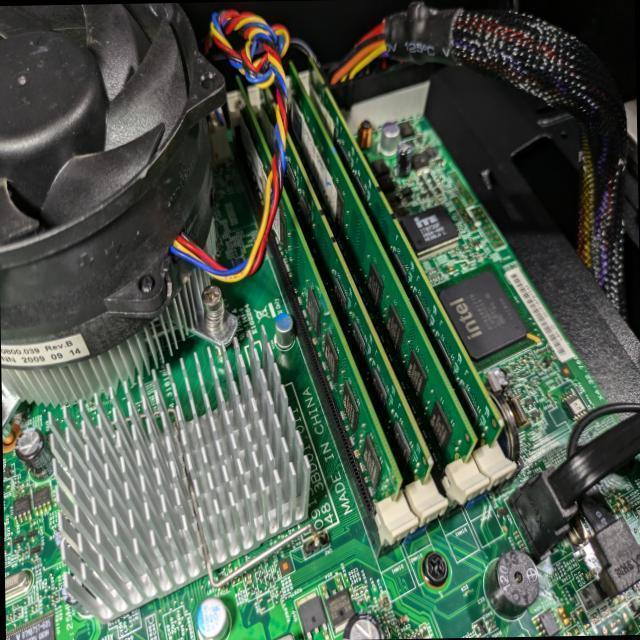CPU_Fan: (0, 1, 239, 434)
Mainboard: (0, 77, 640, 640)
RAM: (286, 56, 478, 469), (307, 54, 503, 452), (235, 72, 403, 504), (258, 81, 434, 488)
